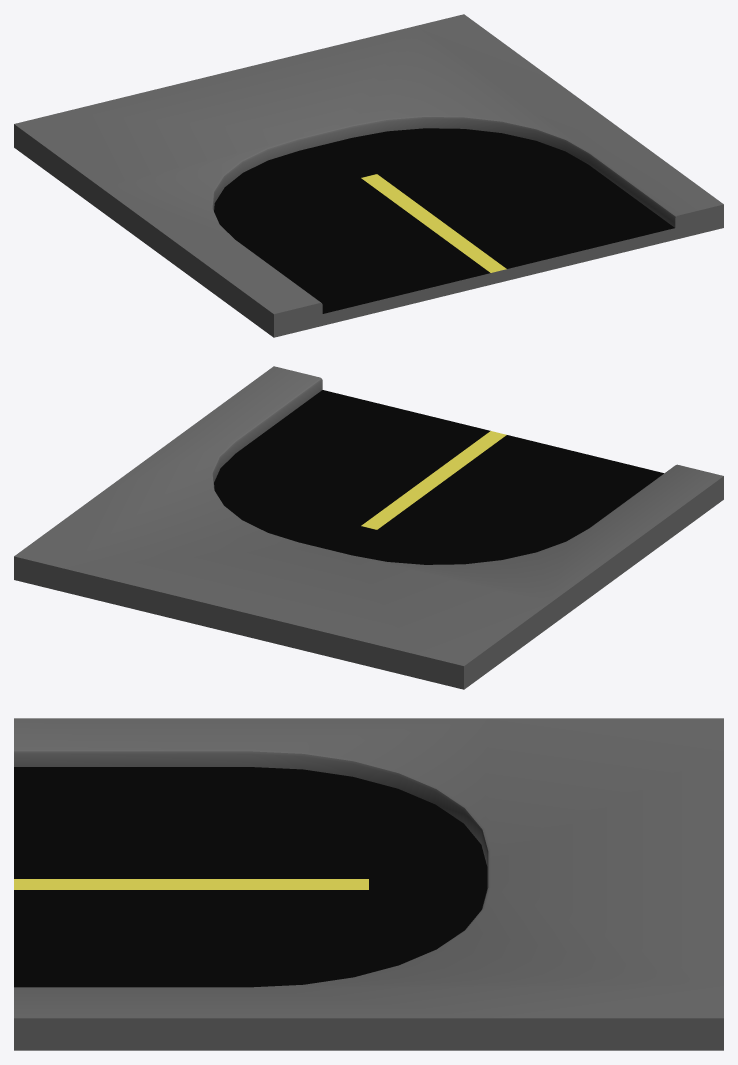
The model's file is Round5.fbx.
The picture shows the model from 3 angles, top to bottom: view 1: azimuth 30°, elevation 25°; view 2: azimuth 150°, elevation 25°; view 3: azimuth 270°, elevation 25°; orthographic projection. The views are drawn at different scales.
Visible parts, largest first — view 1: Round3; view 2: Round3; view 3: Round3.
Boxes of the visible parts, x1,y1,x2,y2 form: Round3: [14, 14, 723, 337]; Round3: [14, 366, 723, 689]; Round3: [14, 718, 723, 1050].
Size of the model in its own units: 200 by 10 by 200.
